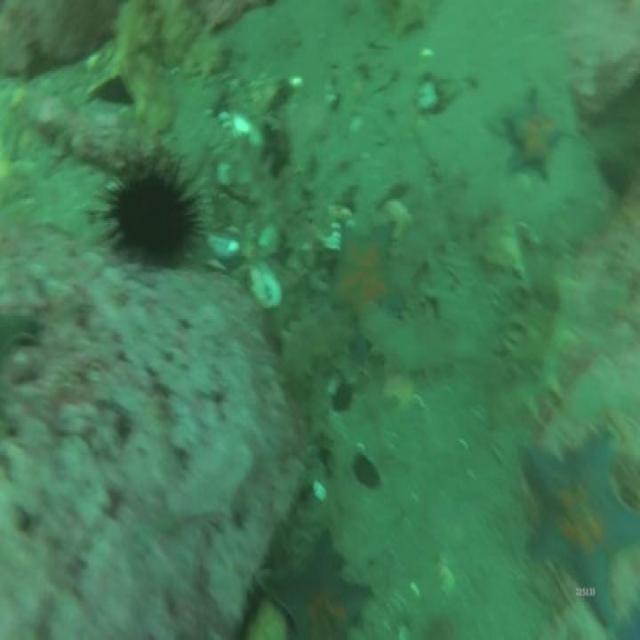echinus: (107, 174, 192, 261)
holothurian: (503, 270, 581, 438), (391, 191, 488, 286), (352, 312, 471, 372), (276, 309, 353, 366)
starfish: (518, 433, 638, 626), (258, 540, 369, 640), (332, 229, 401, 321), (504, 93, 565, 182)
